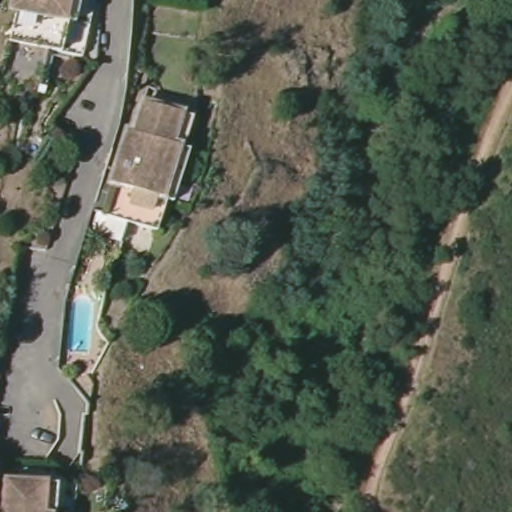pool: (68, 293, 96, 354)
